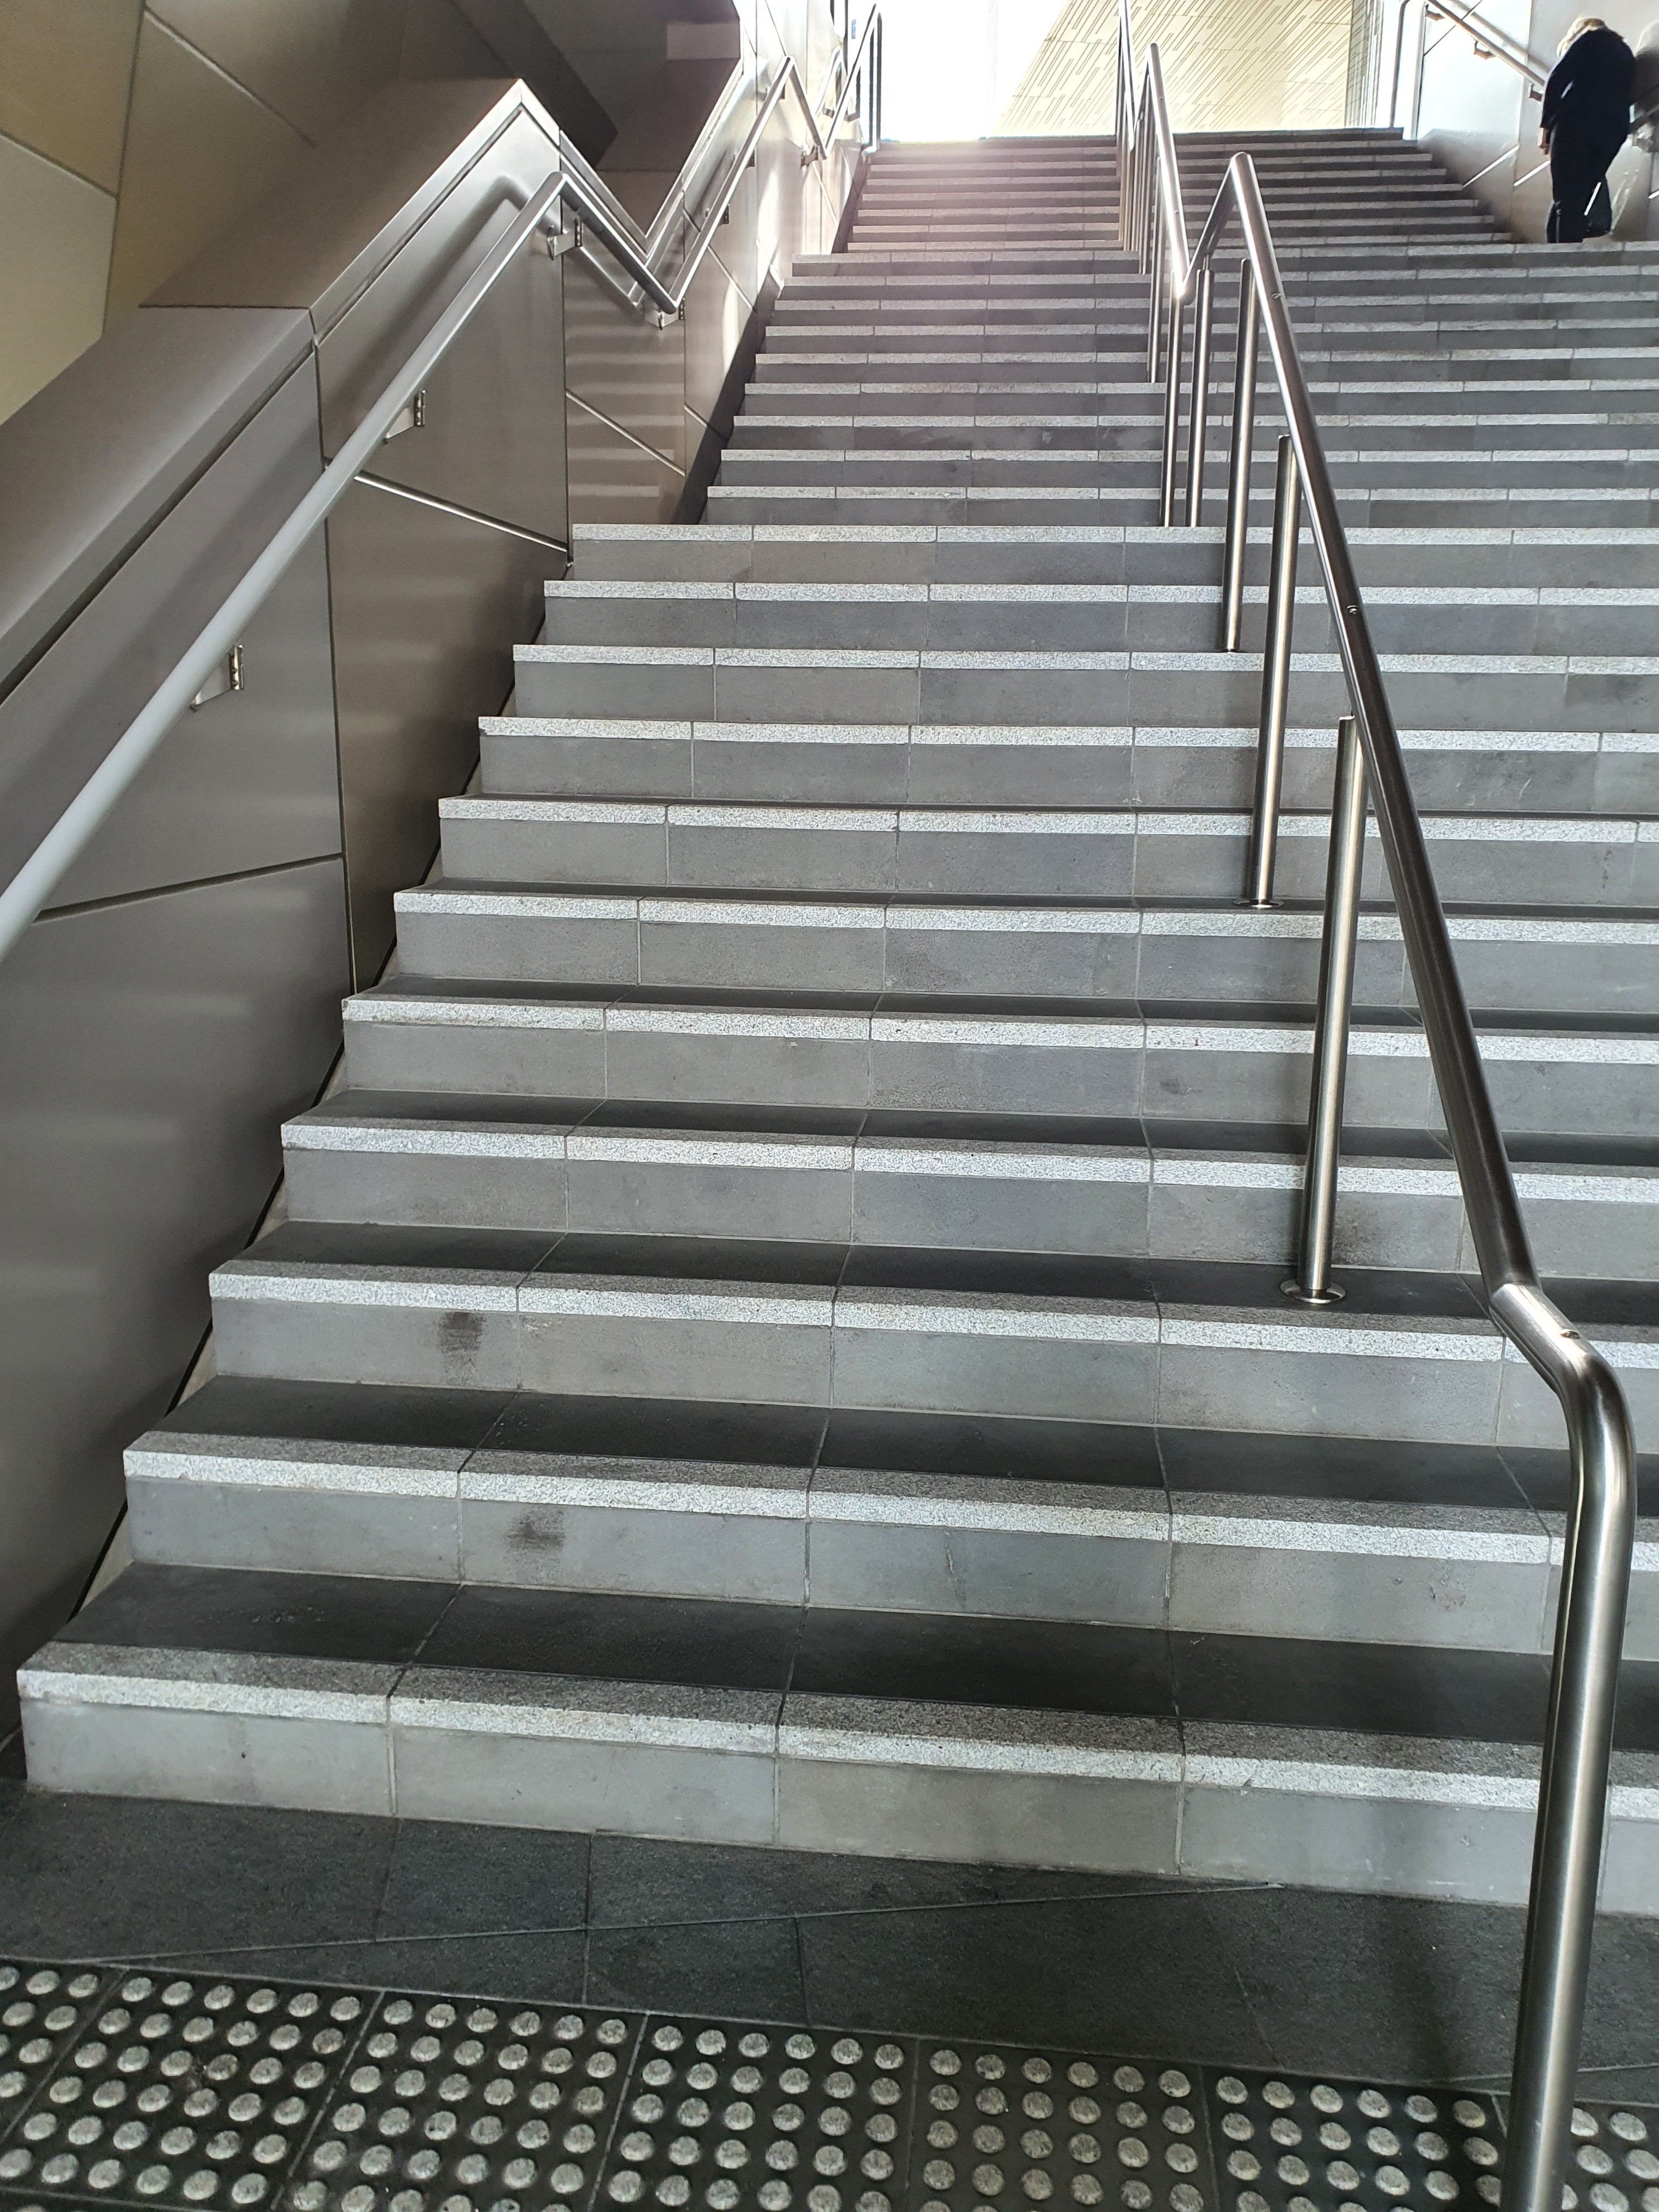upstairs: (289, 956, 1307, 1980)
